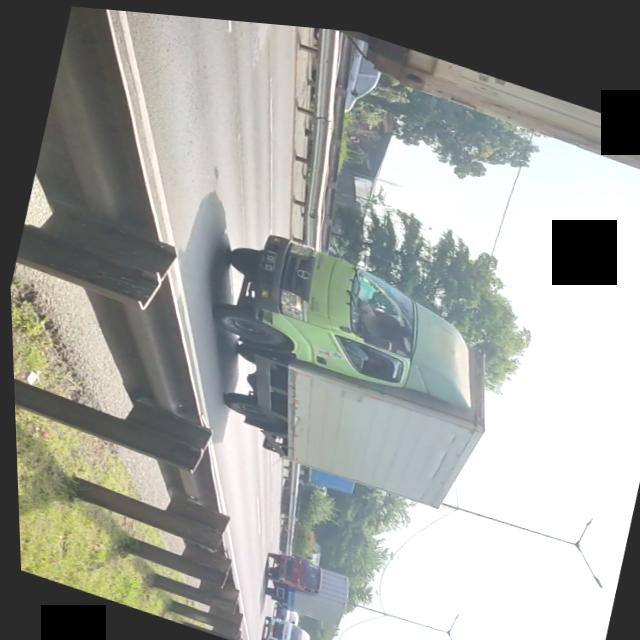Golongan II: (179, 206, 489, 504)
